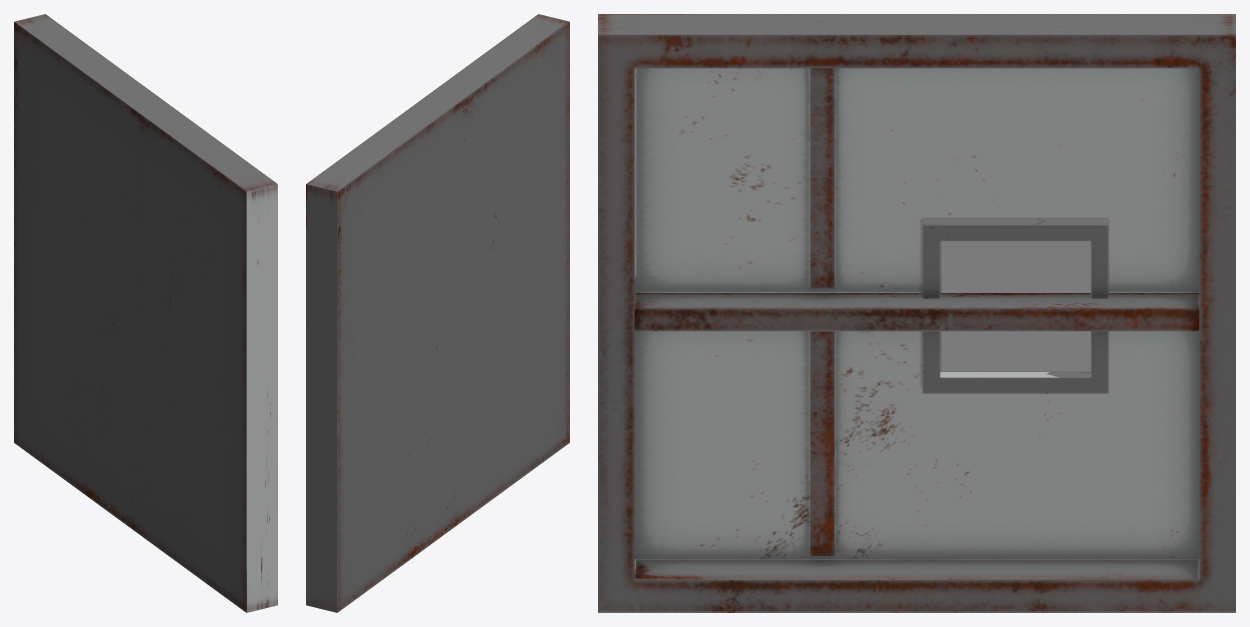
The model's file is _Door.fbx.
The picture shows the model from 3 angles, left to right: view 1: azimuth 30°, elevation 25°; view 2: azimuth 150°, elevation 25°; view 3: azimuth 270°, elevation 25°; orthographic projection. The views are drawn at different scales.
Parts seen in each view (by area): view 1: Door.002; view 2: Door.002; view 3: Door.002.
Part boxes in pixels (x1,y1,x2,y2): Door.002: [14, 14, 277, 612]; Door.002: [306, 14, 569, 612]; Door.002: [598, 14, 1235, 612].
Bounding box in the file's own units: 2859 × 36742 × 36742.
